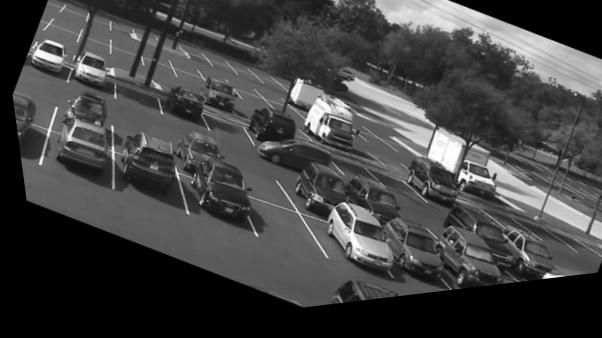empty: (246, 201, 321, 264), (111, 83, 161, 119), (238, 165, 277, 205), (366, 180, 417, 210), (12, 75, 56, 108), (323, 162, 372, 189), (537, 242, 588, 267), (202, 120, 245, 149), (510, 233, 554, 257), (347, 133, 388, 157), (41, 24, 80, 48), (475, 219, 517, 241), (117, 119, 155, 142), (140, 60, 177, 83), (290, 152, 330, 173), (106, 47, 142, 70), (400, 219, 438, 240), (76, 36, 108, 59), (265, 105, 299, 125), (234, 96, 269, 115), (137, 49, 168, 70), (179, 46, 207, 68), (51, 17, 84, 35), (79, 29, 112, 47), (167, 59, 197, 78), (84, 13, 111, 34), (111, 37, 139, 57), (253, 90, 284, 108), (195, 68, 224, 86), (171, 71, 201, 88), (61, 4, 89, 22), (225, 82, 256, 98), (207, 60, 233, 79), (109, 21, 134, 39), (253, 78, 281, 94), (231, 70, 256, 86), (232, 110, 259, 121), (157, 83, 179, 94), (45, 0, 63, 13), (36, 20, 49, 34), (40, 11, 54, 24)
occupied: (309, 209, 383, 279), (182, 161, 245, 229), (373, 226, 437, 291), (428, 236, 494, 299), (115, 133, 168, 201), (51, 115, 104, 177), (399, 166, 459, 220), (299, 100, 349, 160), (439, 217, 501, 264), (336, 183, 395, 232), (241, 114, 292, 166), (497, 237, 546, 291), (287, 169, 340, 217), (311, 286, 388, 312), (171, 136, 215, 179), (10, 91, 37, 150), (161, 90, 200, 128), (197, 81, 237, 117), (72, 53, 105, 90), (29, 40, 64, 74), (67, 95, 102, 125)
